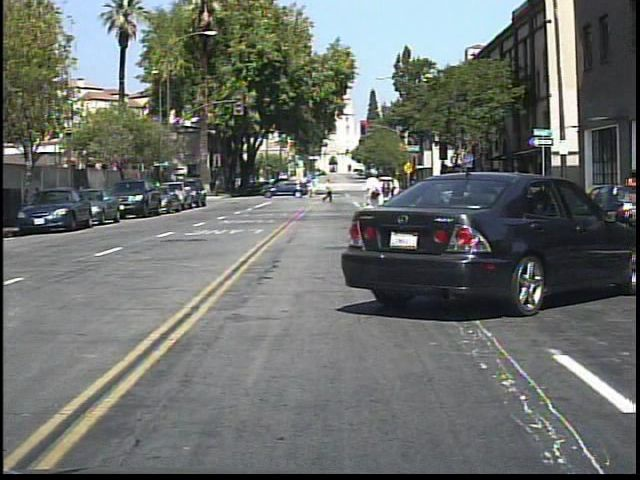person: (360, 164, 392, 240), (621, 164, 639, 231), (514, 164, 533, 221), (386, 169, 407, 203), (321, 175, 337, 206)
